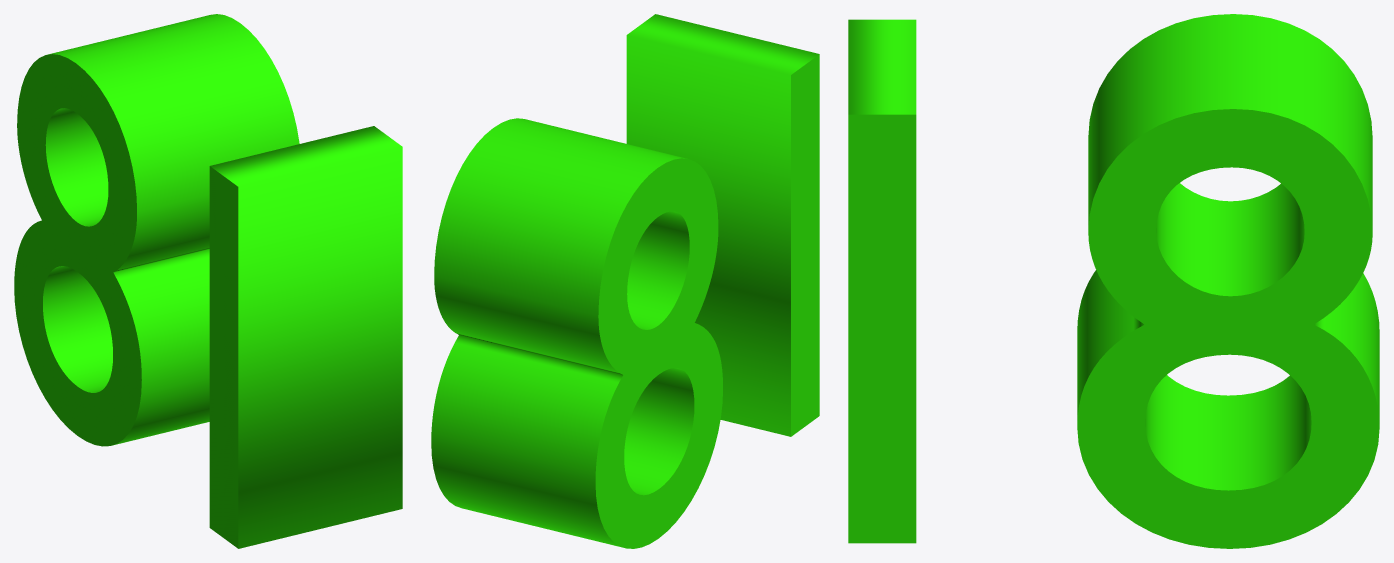
Rendered from number18.obj.
3 views of the same model, side by side, from view 1: azimuth 30°, elevation 25°; view 2: azimuth 150°, elevation 25°; view 3: azimuth 270°, elevation 25° (orthographic). The views are drawn at different scales.
Visible parts, largest first — view 1: Text.016_Text.023; view 2: Text.016_Text.023; view 3: Text.016_Text.023.
Part boxes in pixels (x1,y1,x2,y2): Text.016_Text.023: (14,14,402,548); Text.016_Text.023: (431,14,819,548); Text.016_Text.023: (848,14,1379,548).
Size of the model in its own units: 2.23 by 4.83 by 5.28.
